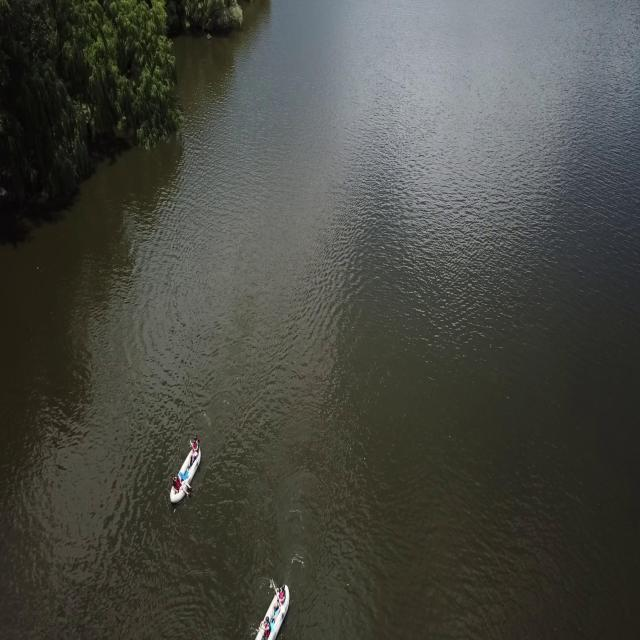kayak: (169, 435, 207, 506)
